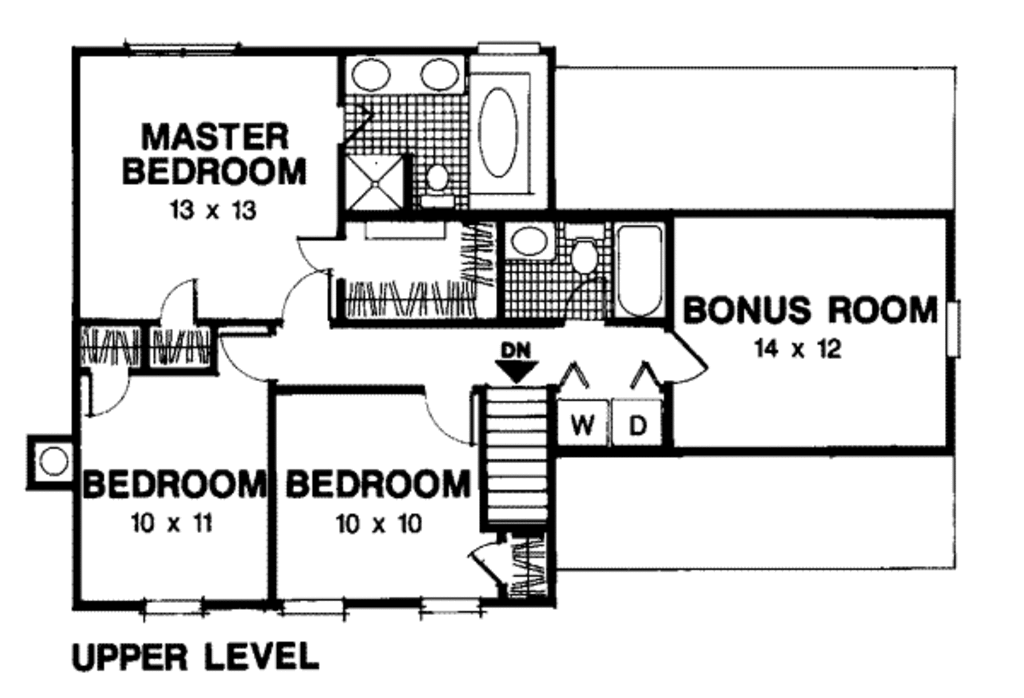door: (417, 384, 477, 449), (217, 330, 274, 385), (278, 269, 329, 323), (660, 328, 709, 381), (156, 277, 202, 328), (86, 370, 130, 418), (470, 539, 507, 591)
large_sink: (563, 225, 604, 272), (420, 161, 460, 209)
small_sink: (337, 55, 462, 96), (500, 218, 560, 265)
stairs: (477, 384, 556, 529)
tub: (469, 68, 530, 193), (613, 215, 665, 324)
windows: (121, 37, 240, 61), (271, 596, 351, 621), (414, 594, 488, 619), (139, 595, 209, 618), (943, 298, 965, 364)
